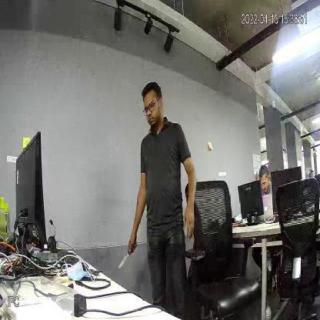knife: (118, 251, 138, 270)
